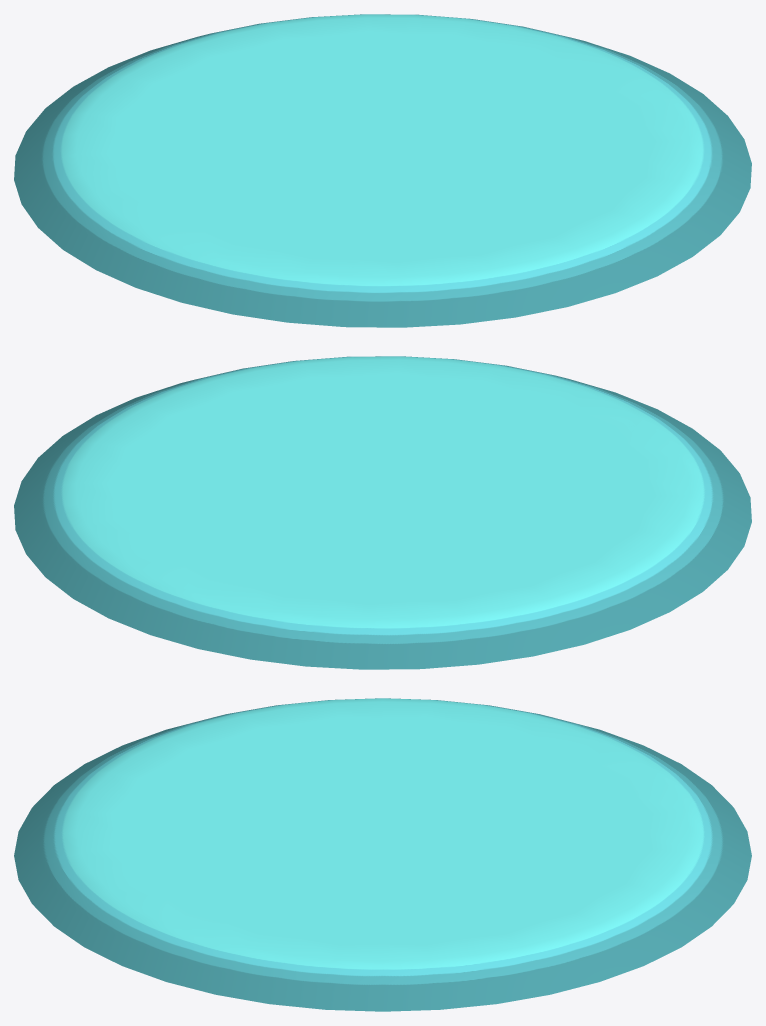
Rendered from Ground.FBX.
The picture shows the model from 3 angles, top to bottom: view 1: azimuth 30°, elevation 25°; view 2: azimuth 150°, elevation 25°; view 3: azimuth 270°, elevation 25°; orthographic projection.
Parts seen in each view (by area): view 1: Cylinder015; view 2: Cylinder015; view 3: Cylinder015.
Part boxes in pixels (x1,y1,x2,y2): Cylinder015: (14, 14, 751, 327); Cylinder015: (14, 356, 751, 669); Cylinder015: (14, 698, 751, 1011).
Bounding box in the file's own units: 4640 × 168 × 4640.
Materials: 1 (1 with a texture image).
